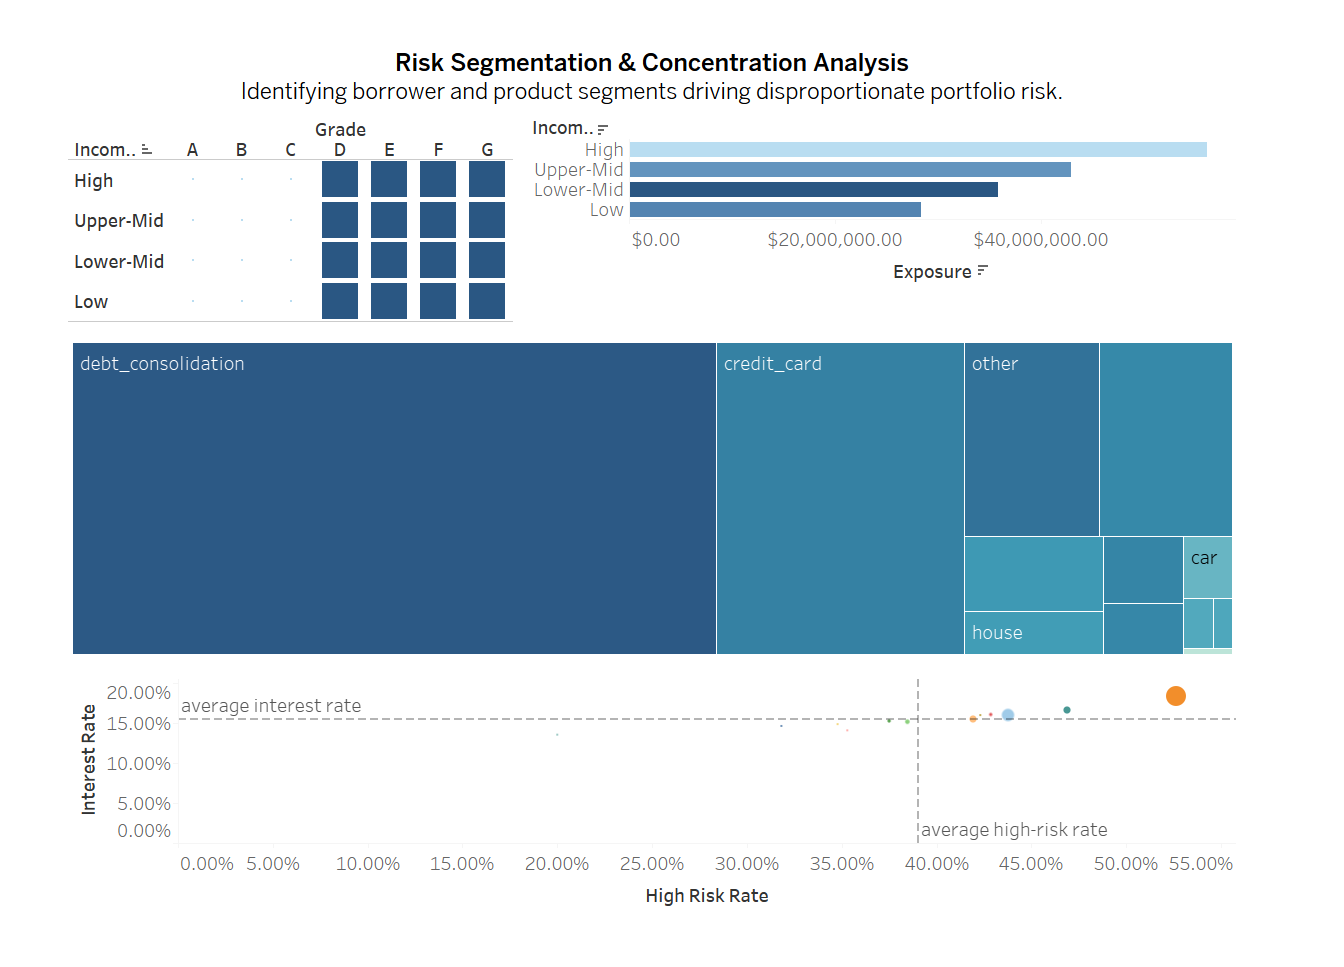

The page's visual inventory and layout, read from the dashboard file:
{"tool":"tableau","page":{"name":"Risk Segmentation & Concentration Analysis","canvas":[1200,900],"ordinal":3},"visuals":[{"type":"text","box":[8,8,1184,73]},{"type":"worksheet","title":"Heatmap | Risk by Income & Grade","mark":"Automatic","rows":["income_band"],"cols":["grade"],"box":[8,81,461,219]},{"type":"worksheet","title":"Bar | Exposure by Income Band","mark":"Automatic","rows":["income_band"],"cols":["exposure"],"box":[469,81,723,219]},{"type":"worksheet","title":"Treemap | Product Risk Concentration","mark":"Automatic","box":[8,300,1184,336]},{"type":"worksheet","title":"Scatter | Risk vs Pricing","mark":"Circle","rows":["avg_interest_rate"],"cols":["high_risk_rate"],"box":[8,641,1184,251]}]}

Visuals, with their boxes on the page's 1200x900 design canvas (x1, y1, x2, y2). These are canvas units, not pixel positions in the 1344x967 screenshot, which may show the page scaled, cropped or inside an application window:
text: 8,8,1192,81
"Heatmap | Risk by Income & Grade" worksheet: 8,81,469,300
"Bar | Exposure by Income Band" worksheet: 469,81,1192,300
"Treemap | Product Risk Concentration" worksheet: 8,300,1192,636
"Scatter | Risk vs Pricing" worksheet (Circle marks): 8,641,1192,892
